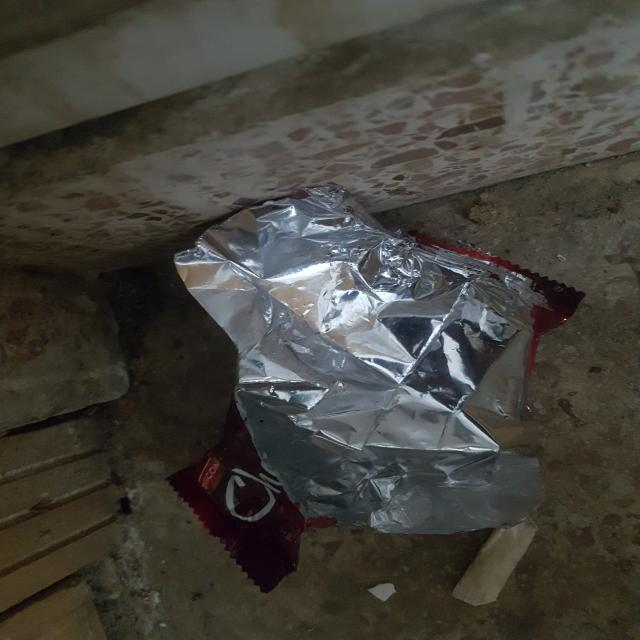electronic: (174, 183, 554, 535), (165, 434, 307, 594)
